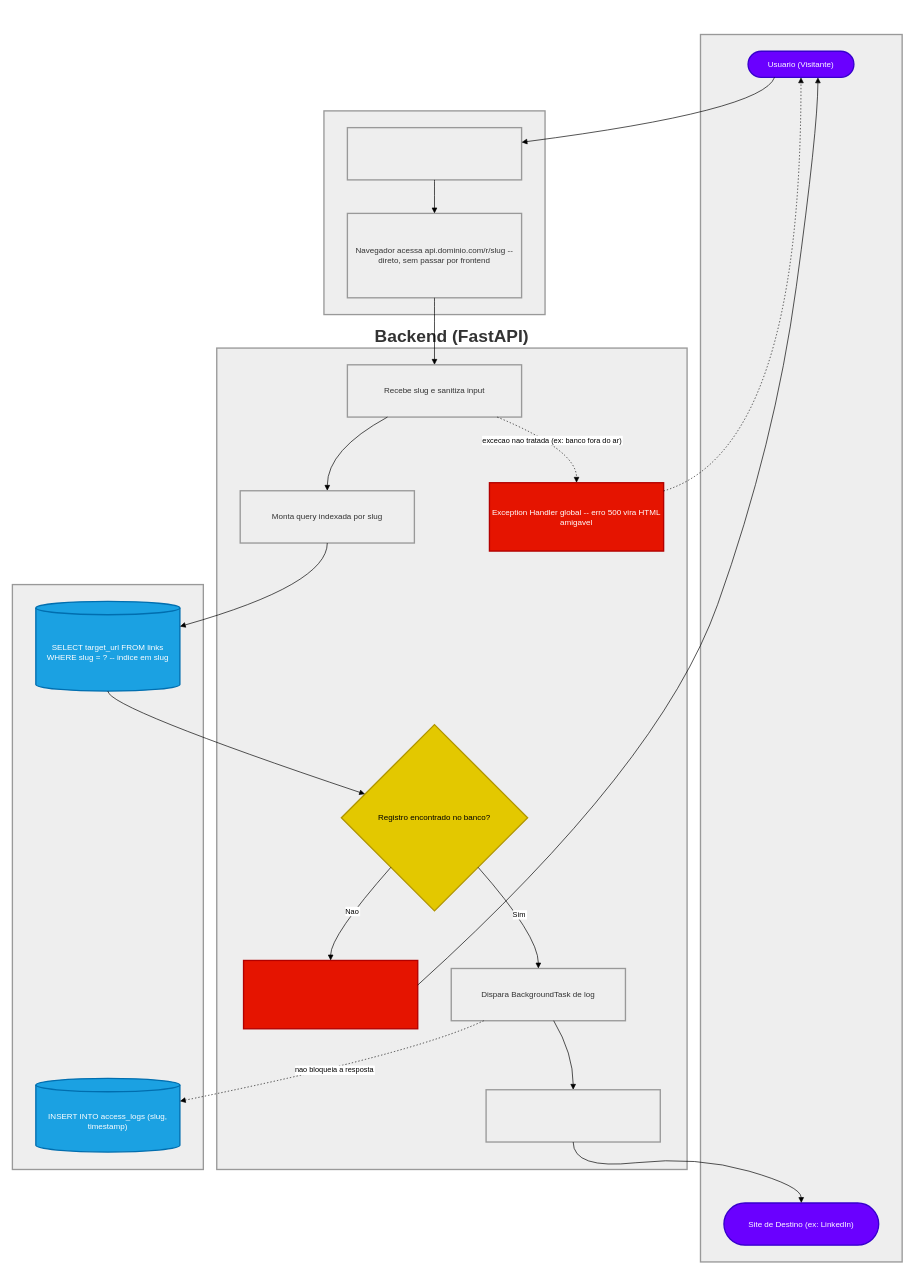
This 914x1274 diagram has some shape labels left out. The box of each missing label's shape, as (x1, y1, x2, y2) in pixels:
Atores: (699, 34, 902, 1262)
Banco de Dados (PostgreSQL): (11, 584, 204, 1170)
Dispositivo / Navegador: (323, 110, 545, 315)
Retorna 307 Temporary Redirect (header Location): (485, 1089, 661, 1142)
Retorna HTML 404 -- pagina de erro simples, sem hop extra: (243, 959, 418, 1029)
Tag NFC dispara abertura do navegador: (346, 127, 522, 180)
